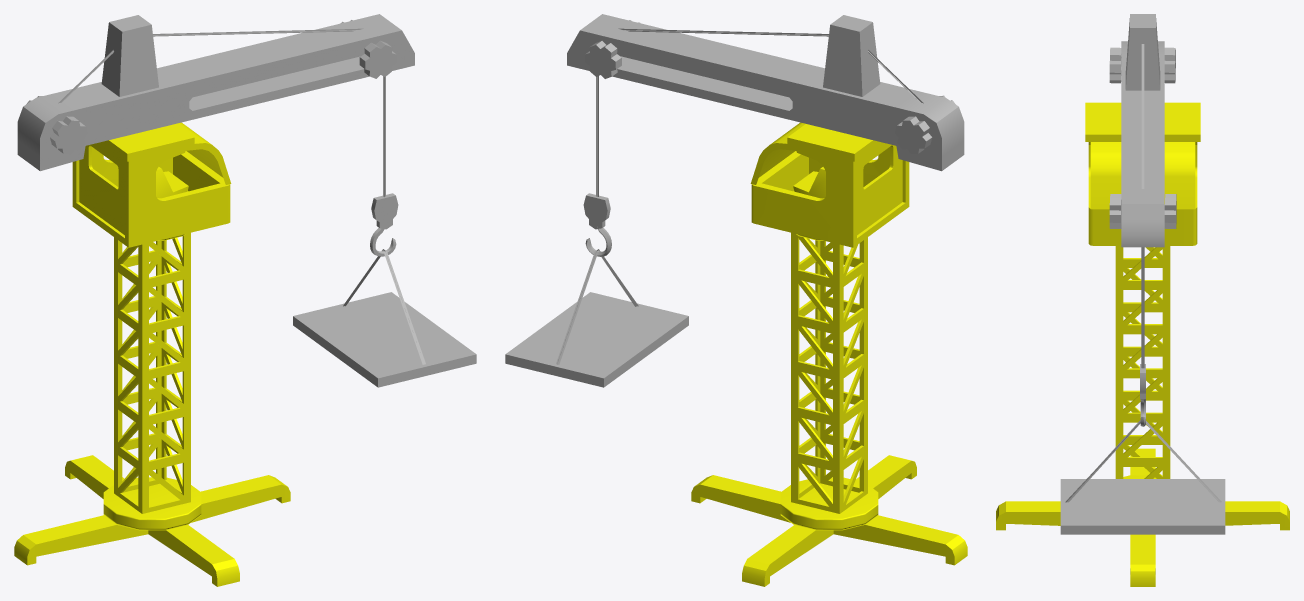
File: CraneSet.fbx
3 views of the same model, side by side, from view 1: azimuth 30°, elevation 25°; view 2: azimuth 150°, elevation 25°; view 3: azimuth 270°, elevation 25° (orthographic). The views are drawn at different scales.
Parts seen in each view (by area): view 1: Base, CraneArm, Cab, Wood, Hook, ArmString, String; view 2: Base, CraneArm, Cab, Wood, Hook, ArmString, String; view 3: Base, CraneArm, Cab, Wood, String, ArmString, MainString_Scale.
Boxes of the visible parts, x1,y1,x2,y2 form: Base: (14,232,290,586); CraneArm: (17,14,414,171); Cab: (72,122,231,247); Wood: (293,292,476,387); Hook: (370,193,398,256); ArmString: (58,28,363,103); String: (343,249,425,364); Base: (691,232,967,586); CraneArm: (567,14,964,171); Cab: (750,122,909,247); Wood: (505,292,688,387); Hook: (583,193,611,256); ArmString: (618,28,923,103); String: (556,249,638,364); Base: (996,246,1289,586); CraneArm: (1109,14,1176,247); Cab: (1085,102,1200,245); Wood: (1060,479,1225,534); String: (1065,420,1221,502); ArmString: (1141,44,1144,188); MainString_Scale: (1141,247,1144,368).
Bounding box in the file's own units: 9.45 × 11.16 × 6.02.
